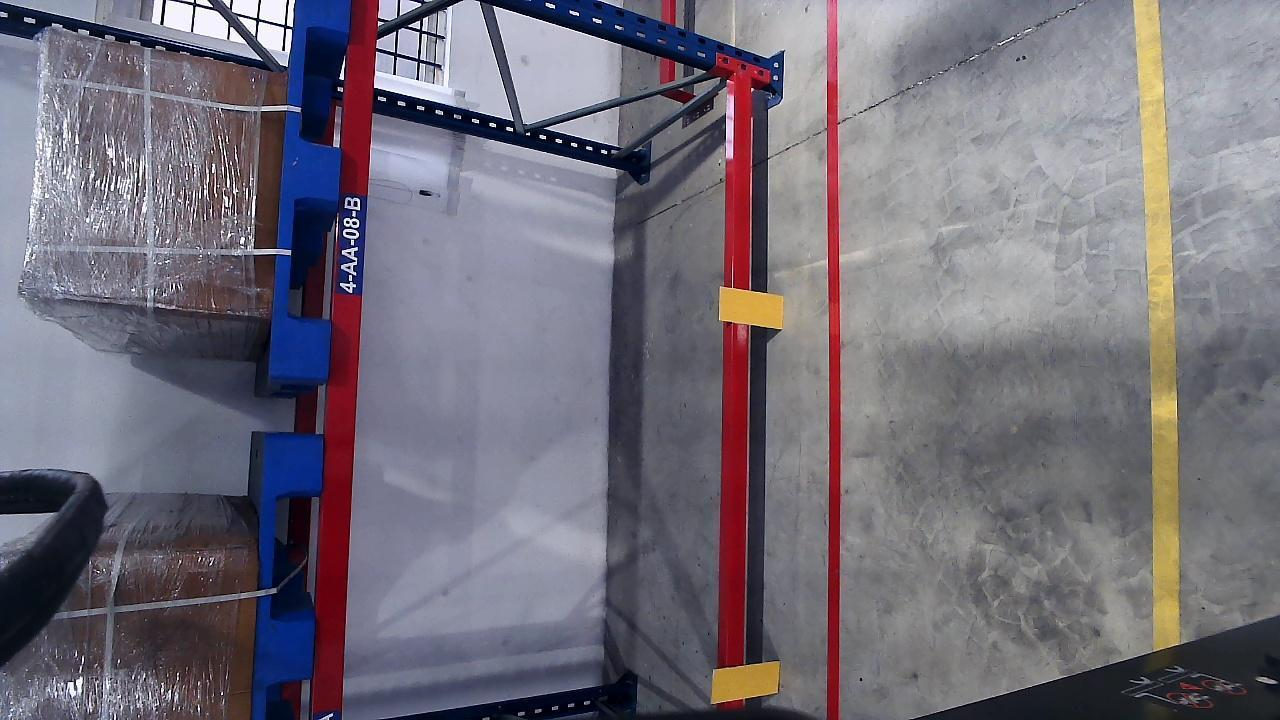red_line: (822, 4, 844, 720)
yellow_line: (1135, 0, 1181, 598)
